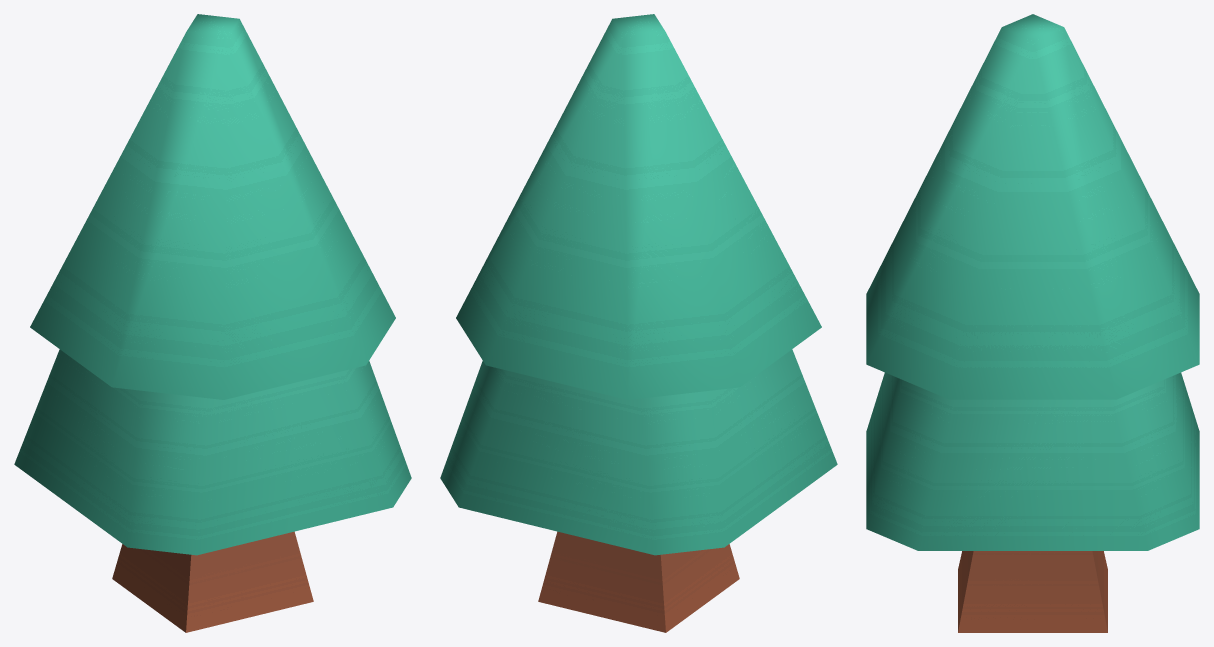
Rendered from unit-tree.glb.
The picture shows the model from 3 angles, left to right: view 1: azimuth 30°, elevation 25°; view 2: azimuth 150°, elevation 25°; view 3: azimuth 270°, elevation 25°; orthographic projection.
Parts seen in each view (by area): view 1: unit-tree; view 2: unit-tree; view 3: unit-tree.
Boxes of the visible parts, box(x1,y1,x2,y2) form: unit-tree: box(14, 14, 411, 632); unit-tree: box(440, 14, 837, 632); unit-tree: box(866, 14, 1199, 632).
Size of the model in its own units: 0.2 by 0.38 by 0.2.
Materials: 1 (1 with a texture image).
